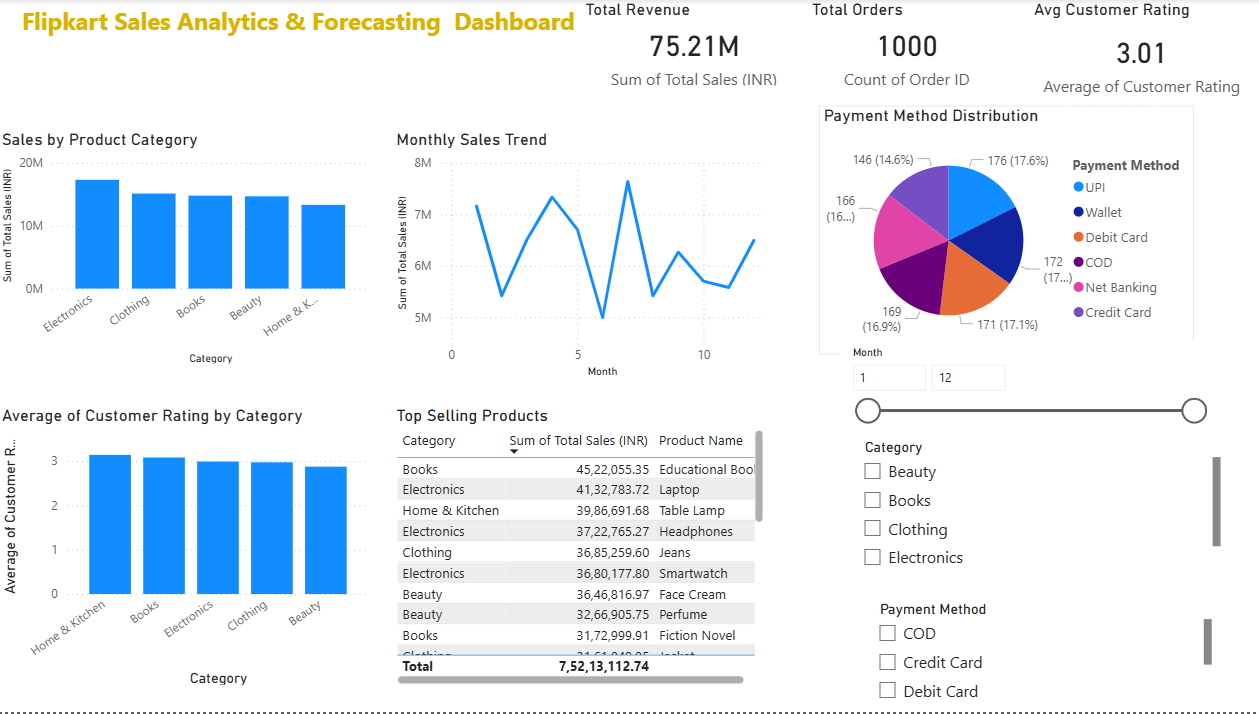

What the dashboard file says about the page in this screenshot:
{"tool":"powerbi","page":{"name":"Page 1","canvas":[1280,720],"ordinal":0},"visuals":[{"type":"lineClusteredColumnComboChart","title":"Sales by Product Category","fields":{"Category":["flipkart_project sales_data.Category"],"Y":["Sum(flipkart_project sales_data.Total Sales (INR))"]},"box":[0,131.2,380.5,241.3],"z":0},{"type":"lineChart","title":"Monthly Sales Trend","fields":{"Category":["flipkart_project sales_data.Month"],"Y":["Sum(flipkart_project sales_data.Total Sales (INR))"]},"box":[398.3,131.2,380.5,254.2],"z":1000},{"type":"pieChart","title":"Payment Method Distribution","fields":{"Category":["flipkart_project sales_data.Payment Method"],"Y":["CountNonNull(flipkart_project sales_data.Order ID)"]},"box":[829,106.9,378.9,252.6],"z":2000},{"type":"tableEx","title":"Top Selling Products","fields":{"Values":["flipkart_project sales_data.Category","Sum(flipkart_project sales_data.Total Sales (INR))","flipkart_project sales_data.Product Name"]},"box":[398.3,409.7,380.5,286.6],"z":4000},{"type":"slicer","fields":{"Values":["flipkart_project sales_data.Month"]},"box":[851.7,344.9,378.9,93.9],"z":5000},{"type":"slicer","fields":{"Values":["flipkart_project sales_data.Category"]},"box":[863,438.8,377.3,142.5],"z":6000},{"type":"slicer","fields":{"Values":["flipkart_project sales_data.Payment Method"]},"box":[877.6,602.4,353,118.2],"z":7000},{"type":"textbox","box":[0,0,652.5,45.3],"z":8000},{"type":"lineClusteredColumnComboChart","fields":{"Category":["flipkart_project sales_data.Category"],"Y":["Avg(flipkart_project sales_data.Customer Rating)"]},"box":[0,410,381,287],"z":8001},{"type":"card","title":"Total Revenue","fields":{"Values":["Sum(flipkart_project sales_data.Total Sales (INR))"]},"box":[589.4,0,228.3,92.3],"z":8002},{"type":"card","title":"Total Orders","fields":{"Values":["CountNonNull(flipkart_project sales_data.Order ID)"]},"box":[817.7,0,200.8,92.3],"z":8003},{"type":"card","title":"Avg Customer Rating","fields":{"Values":["Avg(flipkart_project sales_data.Customer Rating)"]},"box":[1041.2,0,226.7,106.9],"z":8004}]}

Visuals, with their boxes in screenshot pixels (x1, y1, x2, y2), scaled from the page's 1280x720 canvas onto the 1259x714 screenshot:
"Sales by Product Category" lineClusteredColumnComboChart: [x1=0, y1=130, x2=374, y2=369]
"Monthly Sales Trend" lineChart: [x1=392, y1=130, x2=766, y2=382]
"Payment Method Distribution" pieChart: [x1=815, y1=106, x2=1188, y2=357]
"Top Selling Products" tableEx: [x1=392, y1=406, x2=766, y2=690]
slicer - flipkart_project sales_data.Month: [x1=838, y1=342, x2=1210, y2=435]
slicer - flipkart_project sales_data.Category: [x1=849, y1=435, x2=1220, y2=576]
slicer - flipkart_project sales_data.Payment Method: [x1=863, y1=597, x2=1210, y2=713]
textbox: [x1=0, y1=0, x2=642, y2=45]
lineClusteredColumnComboChart - flipkart_project sales_data.Category x Avg(flipkart_project sales_data.Customer Rating): [x1=0, y1=407, x2=375, y2=691]
"Total Revenue" card: [x1=580, y1=0, x2=804, y2=92]
"Total Orders" card: [x1=804, y1=0, x2=1002, y2=92]
"Avg Customer Rating" card: [x1=1024, y1=0, x2=1247, y2=106]
